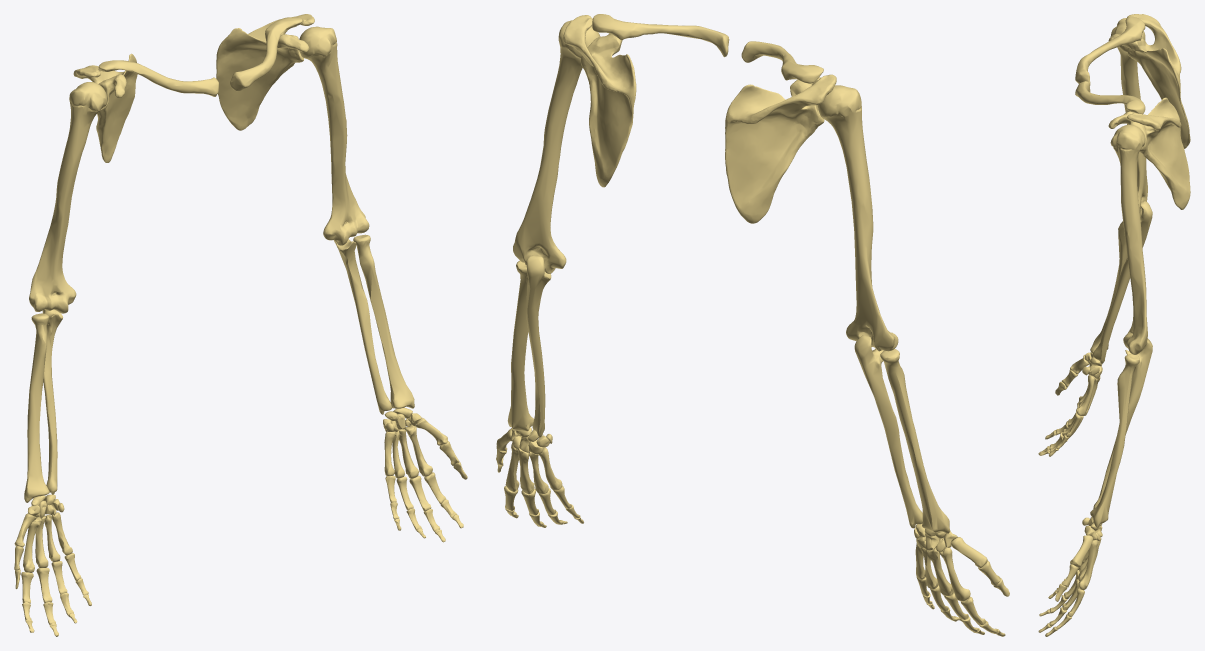
The picture shows the model from 3 angles, left to right: view 1: azimuth 30°, elevation 25°; view 2: azimuth 150°, elevation 25°; view 3: azimuth 270°, elevation 25°; orthographic projection. The views are drawn at different scales.
Parts seen in each view (by area): view 1: shoulder:humerus:isa:FJ3368, shoulder:humerus:isa:FJ3262, shoulder:scapula:isa:FJ3279, shoulder:scapula:isa:FJ3384, wrist-hand:radius:isa:FJ3349, wrist-hand:radius:isa:FJ3277, elbow-forearm:ulna:isa:FJ3286, elbow-forearm:ulna:isa:FJ3391, shoulder:clavicle:isa:FJ3362, shoulder:clavicle:isa:FJ3237; view 2: shoulder:scapula:isa:FJ3384, shoulder:humerus:isa:FJ3368, shoulder:scapula:isa:FJ3279, shoulder:humerus:isa:FJ3262, elbow-forearm:ulna:isa:FJ3391, wrist-hand:radius:isa:FJ3349, wrist-hand:radius:isa:FJ3277, elbow-forearm:ulna:isa:FJ3286, shoulder:clavicle:isa:FJ3237, shoulder:clavicle:isa:FJ3362; view 3: shoulder:humerus:isa:FJ3262, shoulder:scapula:isa:FJ3279, shoulder:scapula:isa:FJ3384, wrist-hand:radius:isa:FJ3277, shoulder:humerus:isa:FJ3368, elbow-forearm:ulna:isa:FJ3391, shoulder:clavicle:isa:FJ3362, elbow-forearm:ulna:isa:FJ3286, shoulder:clavicle:isa:FJ3237, wrist-hand:radius:isa:FJ3349, wrist-hand:second-metacarpal-bone:isa:FJ3243, wrist-hand:first-metacarpal-bone:isa:FJ3240 (+1 smaller).
Part boxes in pixels (bbox=[...]): shoulder:humerus:isa:FJ3368: bbox=[29, 82, 107, 313]; shoulder:humerus:isa:FJ3262: bbox=[299, 26, 369, 245]; shoulder:scapula:isa:FJ3279: bbox=[216, 14, 314, 130]; shoulder:scapula:isa:FJ3384: bbox=[73, 53, 137, 162]; wrist-hand:radius:isa:FJ3349: bbox=[24, 313, 49, 502]; wrist-hand:radius:isa:FJ3277: bbox=[353, 234, 414, 408]; elbow-forearm:ulna:isa:FJ3286: bbox=[333, 239, 391, 414]; elbow-forearm:ulna:isa:FJ3391: bbox=[42, 309, 62, 494]; shoulder:clavicle:isa:FJ3362: bbox=[98, 60, 218, 96]; shoulder:clavicle:isa:FJ3237: bbox=[230, 17, 302, 91]; shoulder:scapula:isa:FJ3384: bbox=[725, 74, 836, 223]; shoulder:humerus:isa:FJ3368: bbox=[818, 85, 898, 351]; shoulder:scapula:isa:FJ3279: bbox=[563, 15, 636, 187]; shoulder:humerus:isa:FJ3262: bbox=[513, 20, 600, 273]; elbow-forearm:ulna:isa:FJ3391: bbox=[854, 335, 922, 528]; wrist-hand:radius:isa:FJ3349: bbox=[880, 349, 950, 533]; wrist-hand:radius:isa:FJ3277: bbox=[507, 260, 533, 431]; elbow-forearm:ulna:isa:FJ3286: bbox=[526, 255, 551, 437]; shoulder:clavicle:isa:FJ3237: bbox=[592, 14, 729, 57]; shoulder:clavicle:isa:FJ3362: bbox=[741, 41, 823, 83]; shoulder:humerus:isa:FJ3262: bbox=[1110, 124, 1147, 354]; shoulder:scapula:isa:FJ3279: bbox=[1108, 97, 1190, 209]; shoulder:scapula:isa:FJ3384: bbox=[1108, 14, 1190, 148]; wrist-hand:radius:isa:FJ3277: bbox=[1090, 354, 1139, 527]; shoulder:humerus:isa:FJ3368: bbox=[1110, 18, 1147, 217]; elbow-forearm:ulna:isa:FJ3391: bbox=[1093, 201, 1152, 363]; shoulder:clavicle:isa:FJ3362: bbox=[1075, 16, 1145, 86]; elbow-forearm:ulna:isa:FJ3286: bbox=[1093, 338, 1152, 508]; shoulder:clavicle:isa:FJ3237: bbox=[1075, 81, 1145, 114]; wrist-hand:radius:isa:FJ3349: bbox=[1090, 221, 1127, 352]; wrist-hand:second-metacarpal-bone:isa:FJ3243: bbox=[1078, 540, 1097, 590]; wrist-hand:first-metacarpal-bone:isa:FJ3240: bbox=[1070, 535, 1092, 567].
Bounding box in the file's own units: 0.6478 × 0.7024 × 0.2005.
